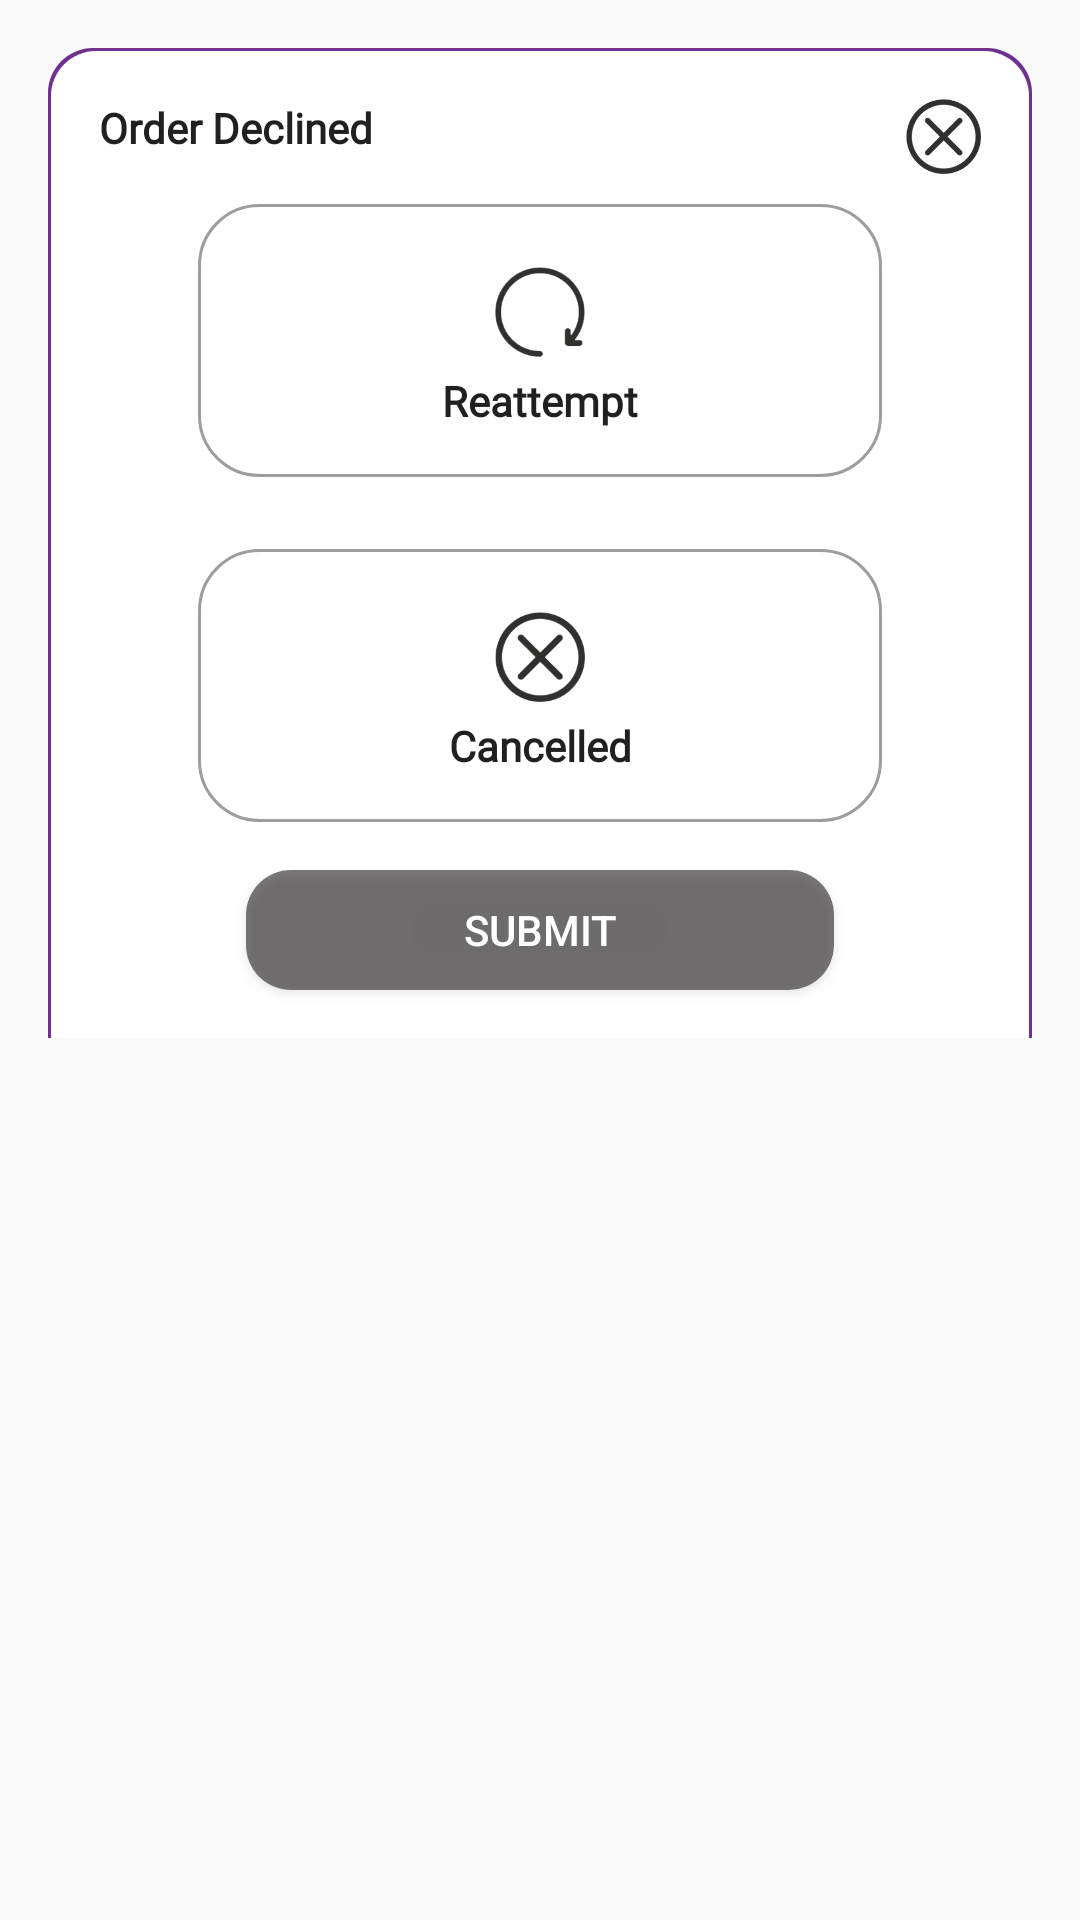

Locate icon controls on the screen. Image size 1080×1920, boxes as rect(x1, y1, x2, y2).
cross: rect(906, 99, 981, 174), rect(495, 612, 585, 702)
refreash: rect(495, 267, 585, 357)
